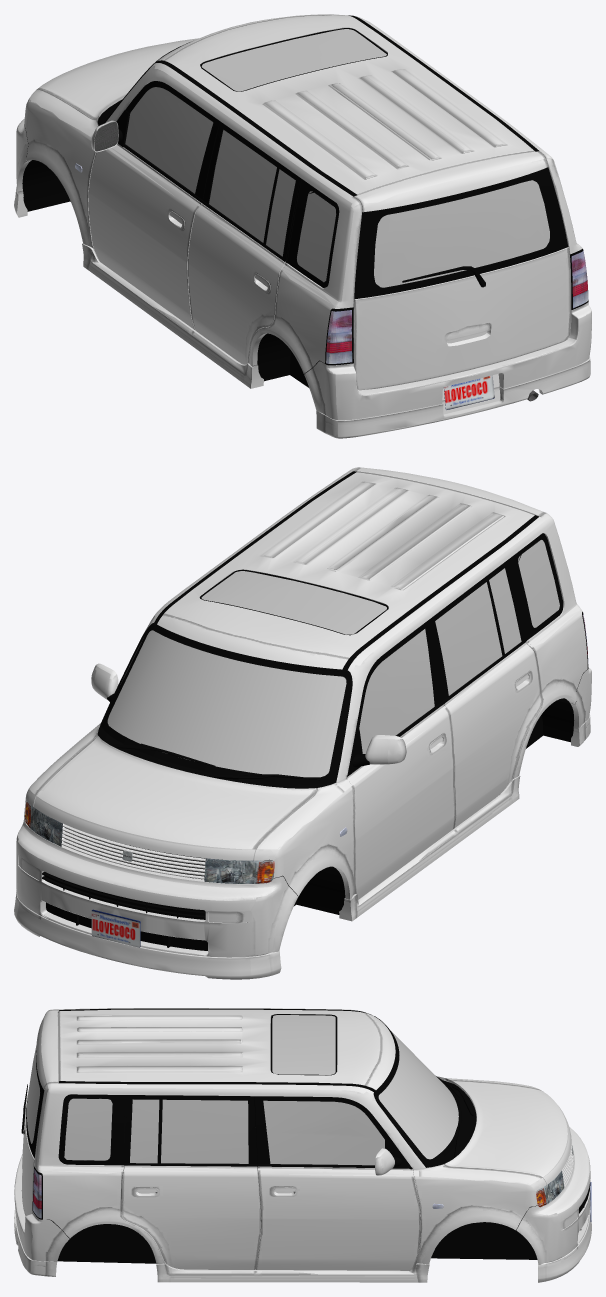
File: scionxl_vehicle.FBX
3 views of the same model, one above another, from view 1: azimuth 30°, elevation 25°; view 2: azimuth 150°, elevation 25°; view 3: azimuth 270°, elevation 25° (orthographic). The views are drawn at different scales.
Visible parts, largest first — view 1: main, Glass, door, doorglass, extras, brakelights; view 2: main, Glass, door, doorglass, headlights; view 3: main, Glass, extras, headlights.
Part boxes in pixels (bbox=[...]): main: bbox=[14, 14, 591, 438]; Glass: bbox=[201, 29, 549, 287]; door: bbox=[88, 81, 219, 329]; doorglass: bbox=[125, 87, 213, 193]; extras: bbox=[75, 163, 587, 341]; brakelights: bbox=[326, 279, 588, 363]; main: bbox=[14, 467, 591, 979]; Glass: bbox=[107, 540, 559, 777]; door: bbox=[347, 619, 454, 899]; doorglass: bbox=[359, 629, 434, 753]; headlights: bbox=[29, 805, 260, 883]; main: bbox=[14, 1008, 591, 1282]; Glass: bbox=[27, 1015, 458, 1165]; extras: bbox=[33, 1169, 545, 1208]; headlights: bbox=[543, 1171, 564, 1204].
Bounding box in the file's own units: 5.48 × 3.97 × 10.9.
